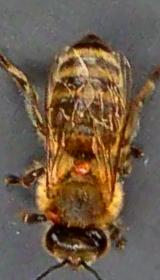varroa_mite: (38, 200, 70, 230), (72, 154, 94, 178)
